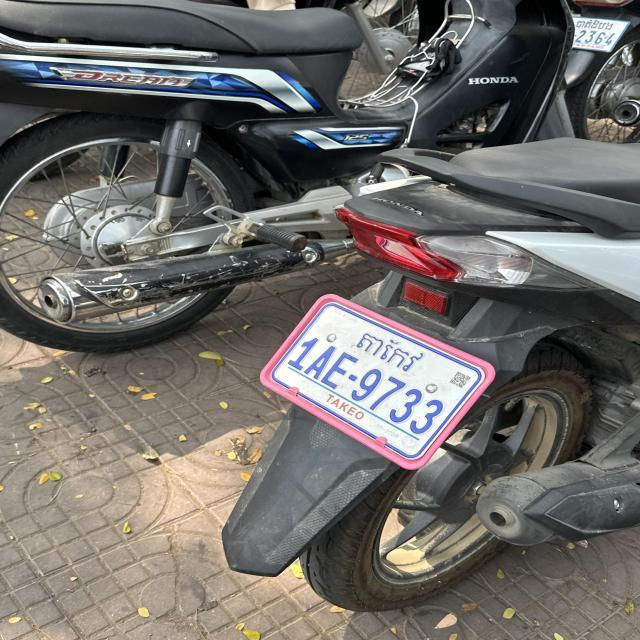Takeo: (354, 331, 424, 371)
